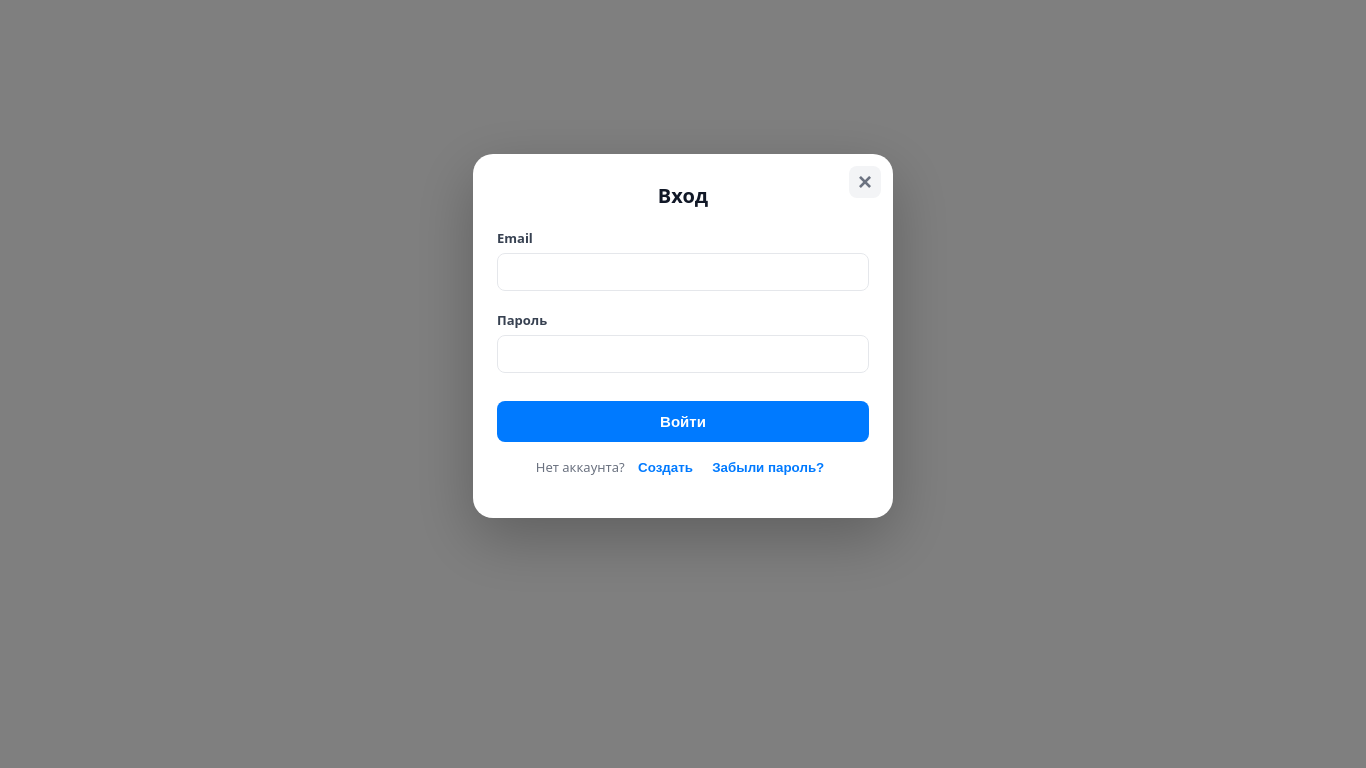
Test case: AuthModal: подтверждение почты › после регистрации показывает экран подтверждения и не остаётся в форме с неактивной кнопкой
Click the button "Создать": x=666, y=468 [632,458,699,477]
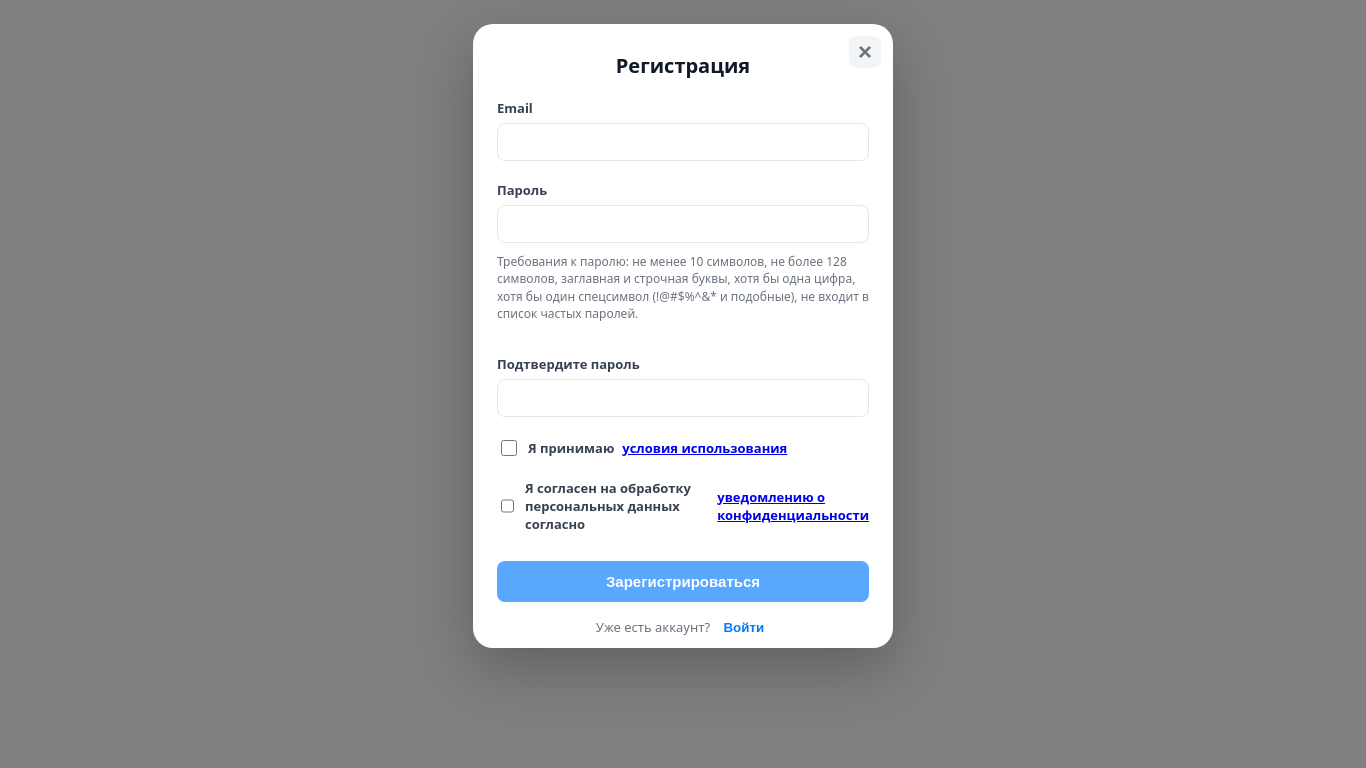
In the field labelled "Email": x=683, y=142 [497,123,869,161], type "user@ya.ru"
In the password field labelled "Пароль": x=683, y=224 [497,205,869,243], type "Secret-2026!x"
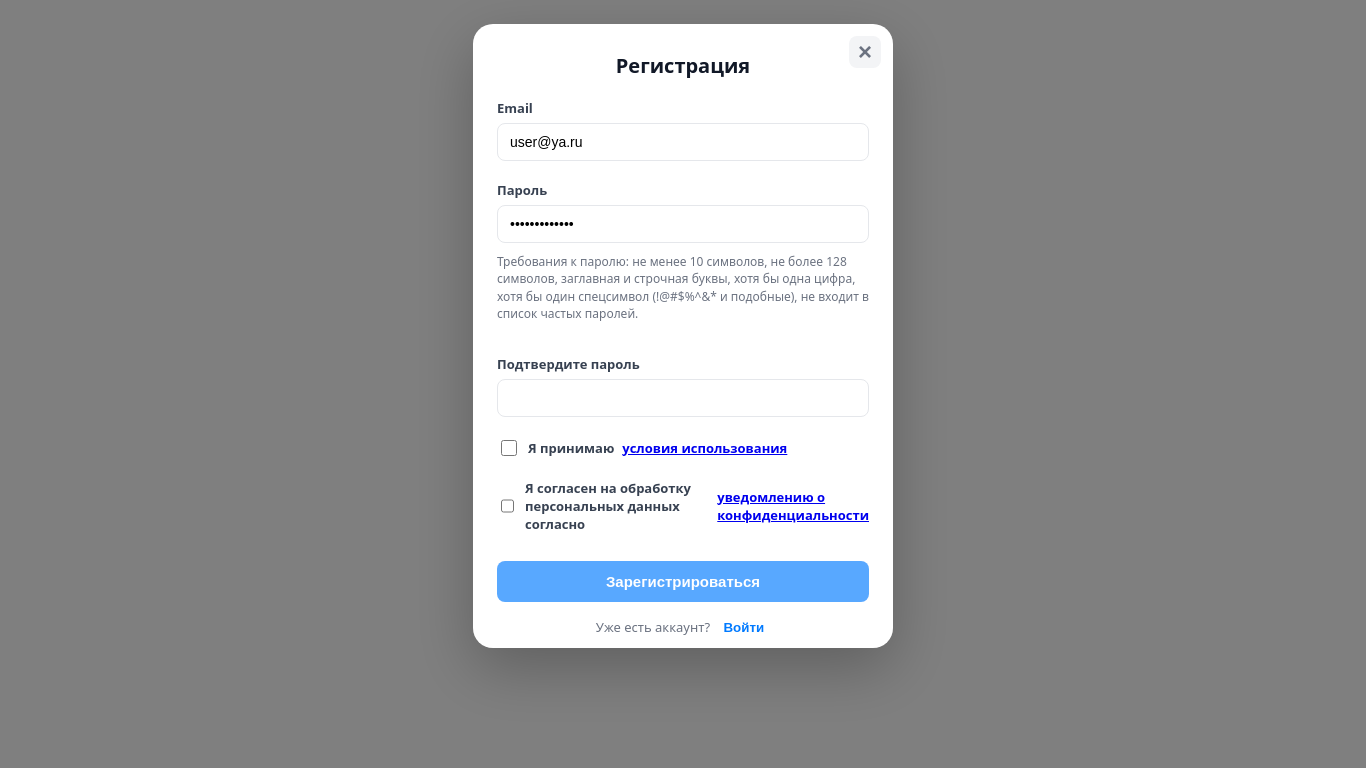
In the password field labelled "Подтвердите пароль": x=683, y=398 [497,379,869,417], type "Secret-2026!x"
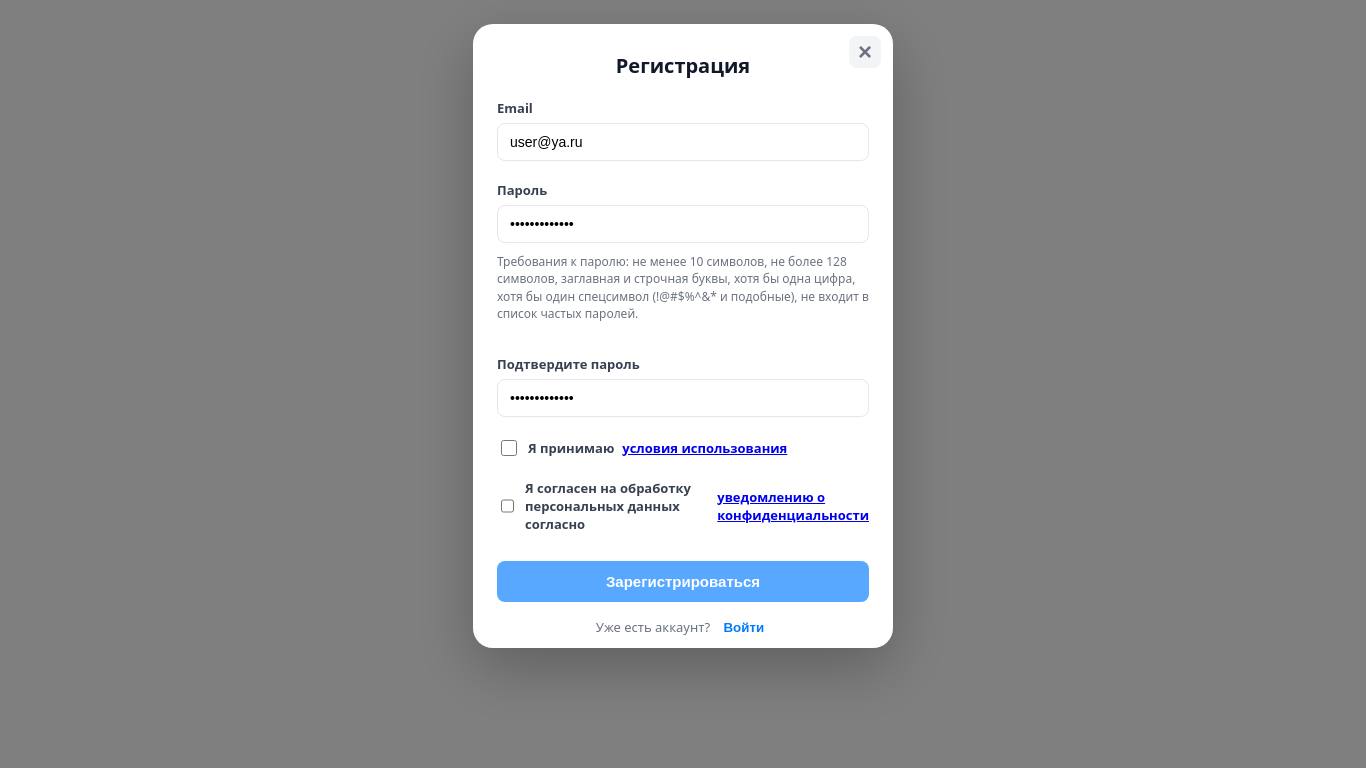
Click the checkbox labelled "Я принимаю условия использования": x=509, y=448 [501,440,517,456]
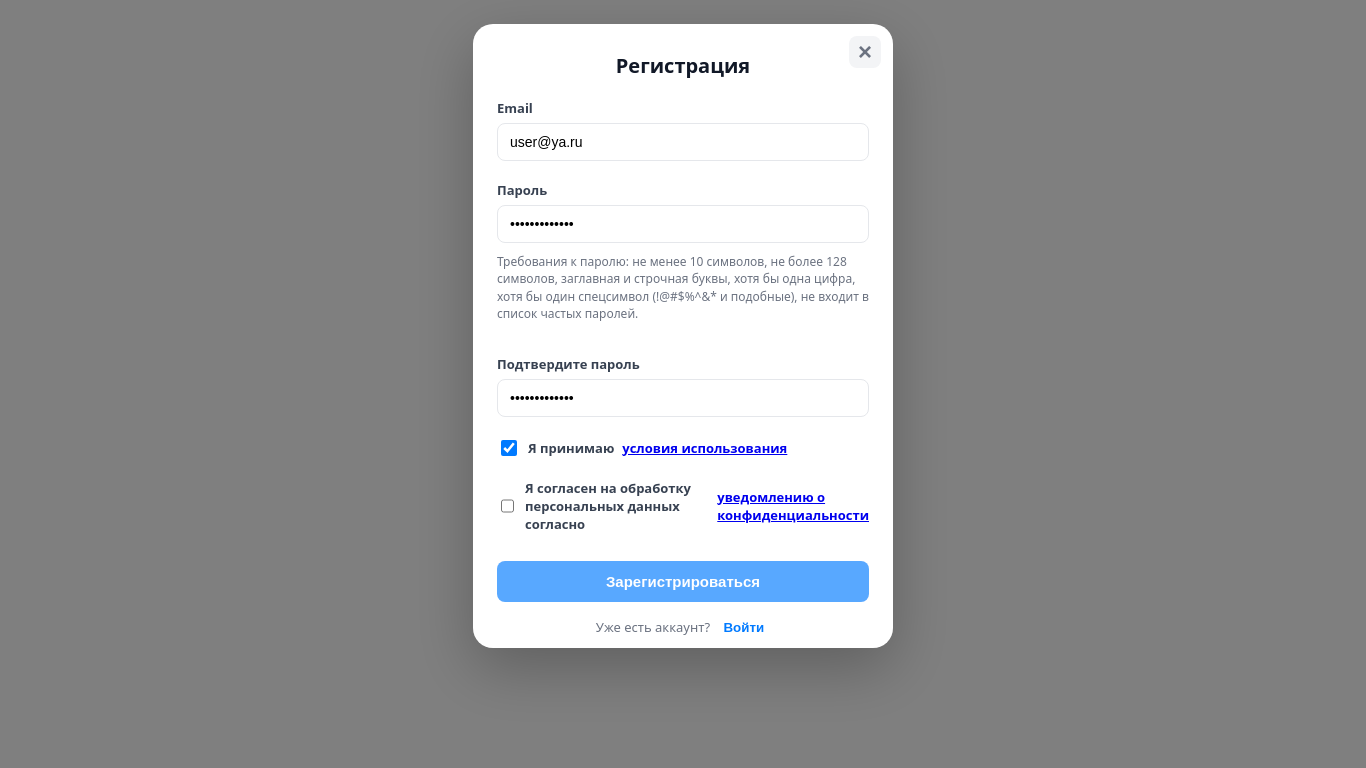
Click the 2nd checkbox: x=508, y=506 [501,498,514,514]
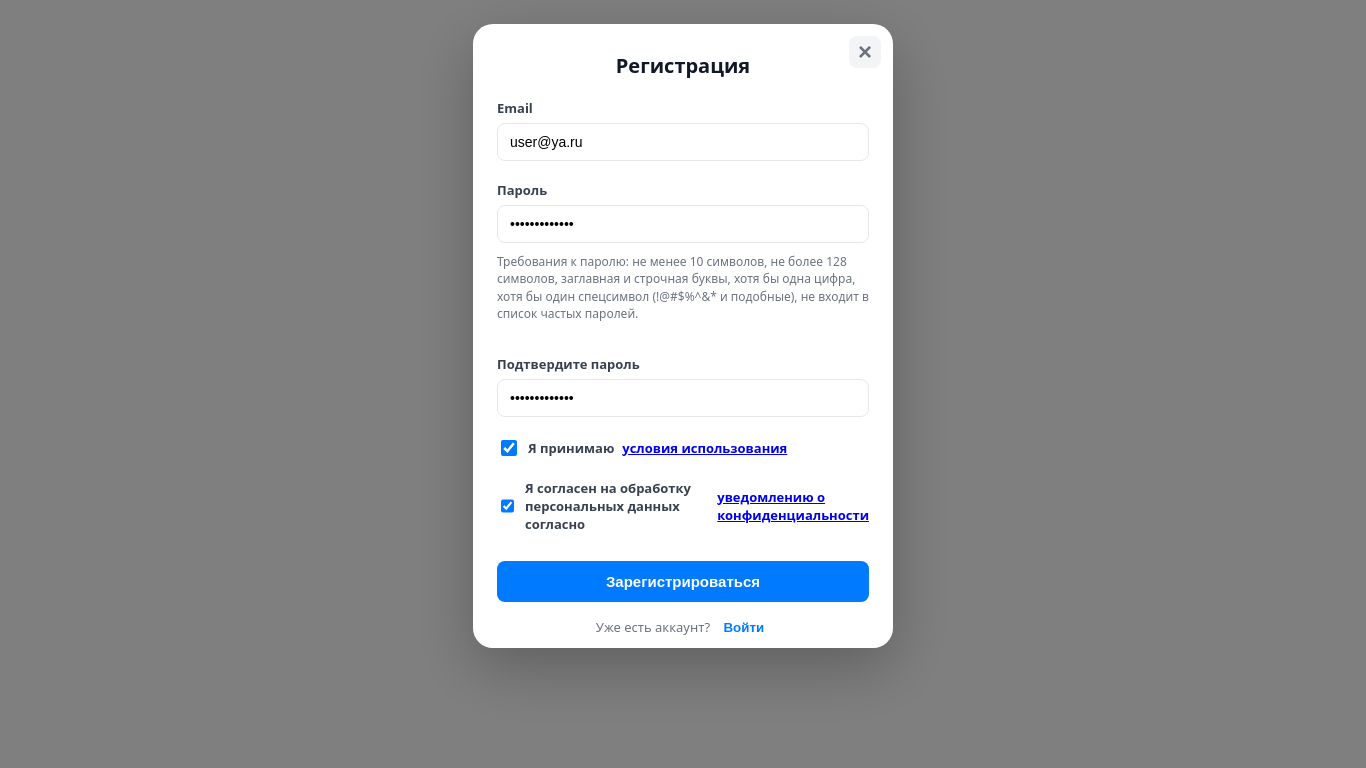
Click the button "Зарегистрироваться": x=683, y=581 [497,561,869,602]
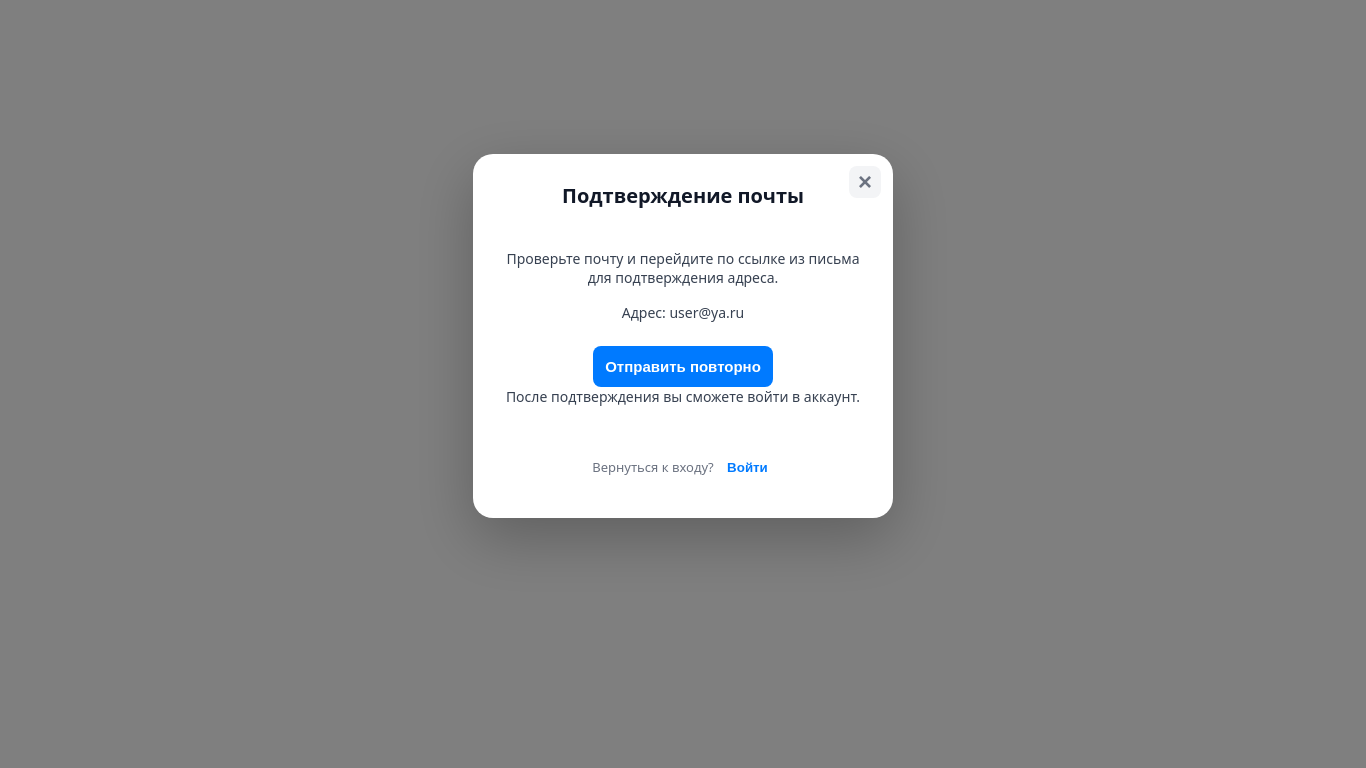
Result: the button "Отправить повторно" is enabled at [593,346,773,387]
Result: the heading "Подтверждение почты" is shown at [562,182,804,209]
